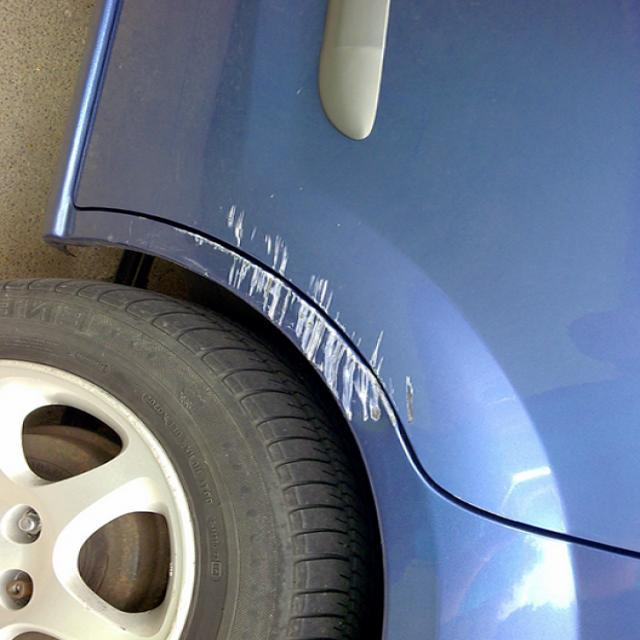scratch: (163, 186, 424, 459)
